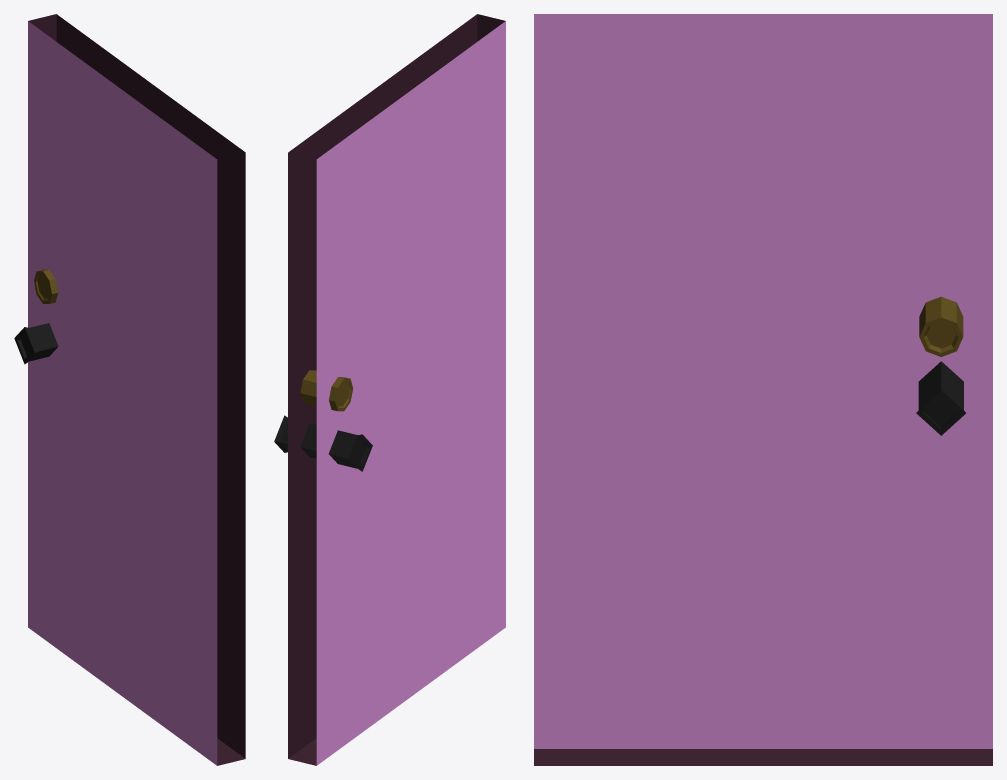
File: EnterDoor.fbx
The picture shows the model from 3 angles, left to right: view 1: azimuth 30°, elevation 25°; view 2: azimuth 150°, elevation 25°; view 3: azimuth 270°, elevation 25°; orthographic projection. The views are drawn at different scales.
Parts seen in each view (by area): view 1: Cube.001; view 2: Cube.001; view 3: Cube.001.
Part boxes in pixels (x1,y1,x2,y2): Cube.001: [14, 14, 245, 765]; Cube.001: [274, 14, 505, 765]; Cube.001: [534, 14, 992, 765].
Size of the model in its own units: 24.97 by 185 by 105.
